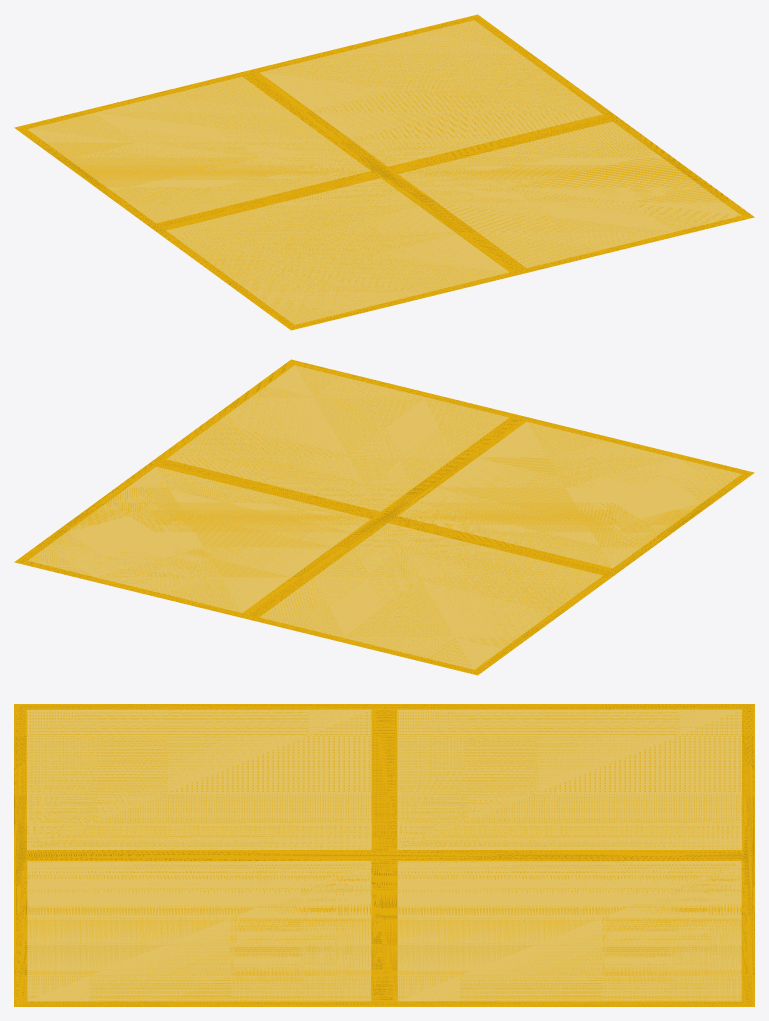
File: floor1.fbx
The picture shows the model from 3 angles, top to bottom: view 1: azimuth 30°, elevation 25°; view 2: azimuth 150°, elevation 25°; view 3: azimuth 270°, elevation 25°; orthographic projection. The views are drawn at different scales.
Visible parts, largest first — view 1: Group1; view 2: Group1; view 3: Group1.
Boxes of the visible parts, x1,y1,x2,y2 form: Group1: (14, 14, 754, 330); Group1: (14, 359, 754, 675); Group1: (14, 704, 754, 1006).
Bounding box in the file's own units: 24239 × 0 × 25080.
